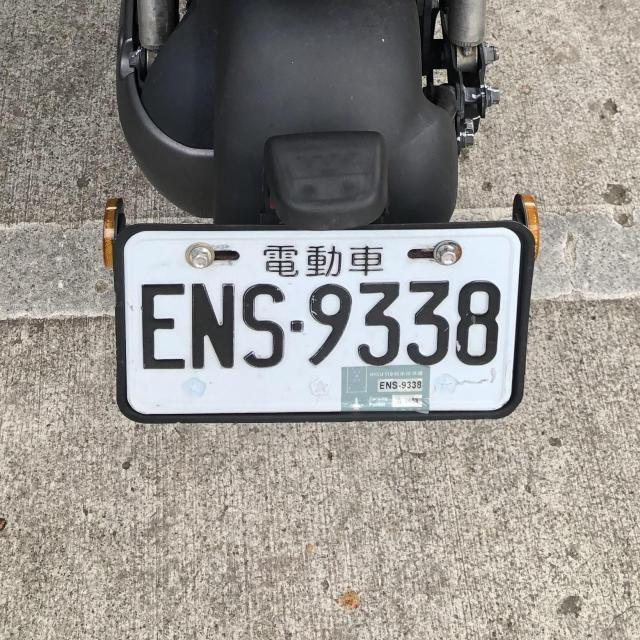W: (118, 220, 530, 413)
